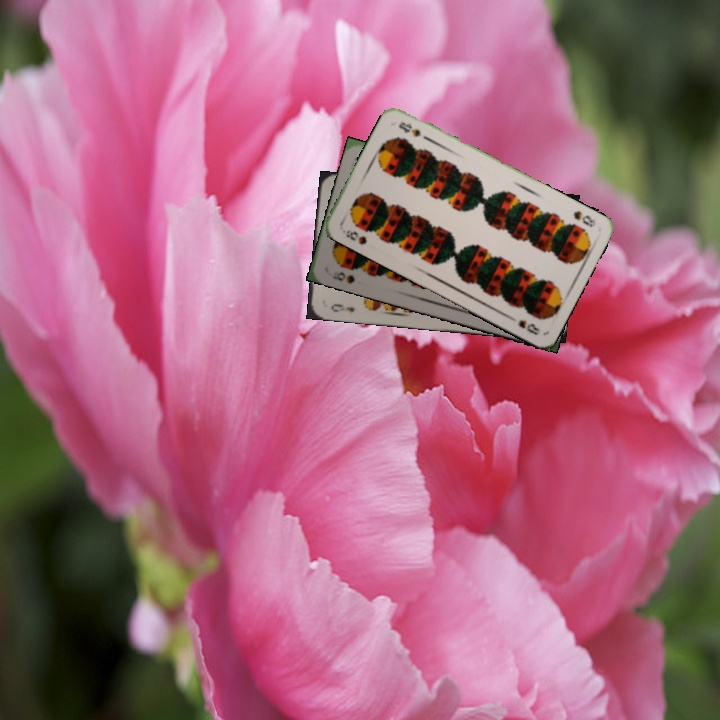E9: (327, 299, 357, 315)
S8: (569, 207, 598, 230), (338, 226, 369, 247), (328, 267, 358, 286)
